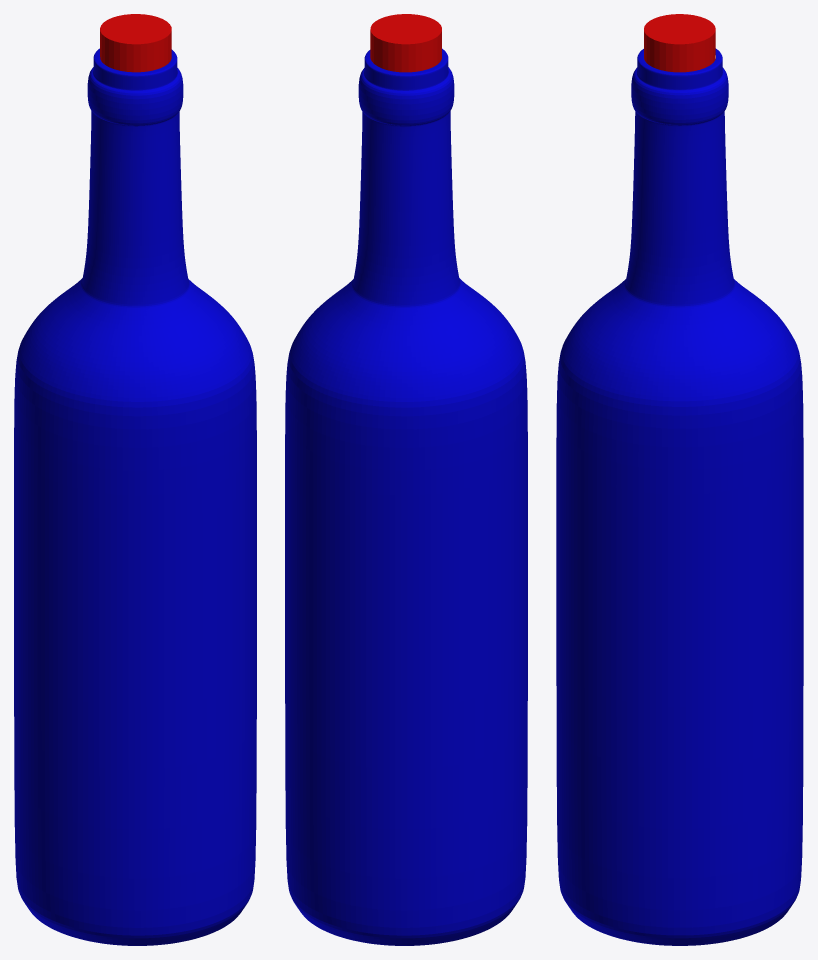
Rendered from Wine_bottle.gltf.
The picture shows the model from 3 angles, left to right: view 1: azimuth 30°, elevation 25°; view 2: azimuth 150°, elevation 25°; view 3: azimuth 270°, elevation 25°; orthographic projection.
Visible parts, largest first — view 1: WineBottle; view 2: WineBottle; view 3: WineBottle.
Part boxes in pixels (<box>): WineBottle: <box>14,14,256,945</box>; WineBottle: <box>285,14,527,945</box>; WineBottle: <box>556,14,803,945</box>.
Bounding box in the file's own units: 0.0756 × 0.3017 × 0.0773.
